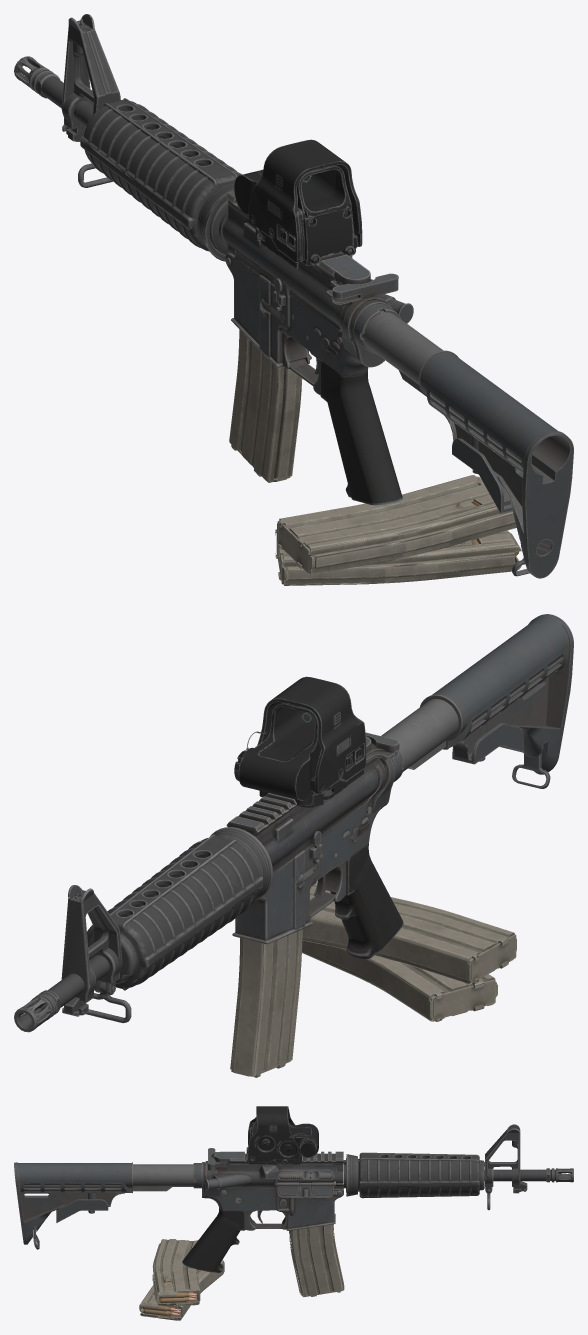
The model's file is komando.glb.
3 renders of one model, top to bottom at view 1: azimuth 30°, elevation 25°; view 2: azimuth 150°, elevation 25°; view 3: azimuth 270°, elevation 25°, orthographic. The views are drawn at different scales.
Visible parts, largest first — view 1: m4_re_M4_re5_0, m4_stock_stock_0, M4_handguard_M4_handguard6_0, mag4_mag3_0, polySurface509_scope1_0, mag1_mag3_0, mag_mag3_0; view 2: M4_handguard_M4_handguard6_0, m4_re_M4_re5_0, m4_stock_stock_0, polySurface509_scope1_0, mag4_mag3_0, mag1_mag3_0, mag_mag3_0; view 3: m4_re_M4_re5_0, M4_handguard_M4_handguard6_0, m4_stock_stock_0, polySurface509_scope1_0, mag1_mag3_0, mag4_mag3_0, mag_mag3_0.
Part boxes in pixels (x1,y1,x2,y2): m4_re_M4_re5_0: (222, 191, 413, 505); m4_stock_stock_0: (354, 304, 573, 578); M4_handguard_M4_handguard6_0: (14, 14, 241, 261); mag4_mag3_0: (277, 475, 516, 574); polySurface509_scope1_0: (234, 139, 362, 268); mag1_mag3_0: (229, 260, 302, 482); mag_mag3_0: (275, 529, 521, 585); M4_handguard_M4_handguard6_0: (14, 827, 272, 1032); m4_re_M4_re5_0: (226, 732, 403, 959); m4_stock_stock_0: (381, 614, 573, 788); polySurface509_scope1_0: (234, 676, 366, 807); mag4_mag3_0: (302, 881, 516, 984); mag1_mag3_0: (230, 858, 302, 1077); mag_mag3_0: (302, 940, 497, 1021); m4_re_M4_re5_0: (182, 1148, 343, 1272); M4_handguard_M4_handguard6_0: (343, 1124, 573, 1210); m4_stock_stock_0: (14, 1162, 201, 1249); polySurface509_scope1_0: (246, 1106, 318, 1164); mag1_mag3_0: (289, 1224, 344, 1297); mag4_mag3_0: (152, 1239, 200, 1305); mag_mag3_0: (139, 1260, 224, 1320).
Size of the model in its own units: 0.1815 by 0.2835 by 0.7804.
5 materials, 5 textured.
